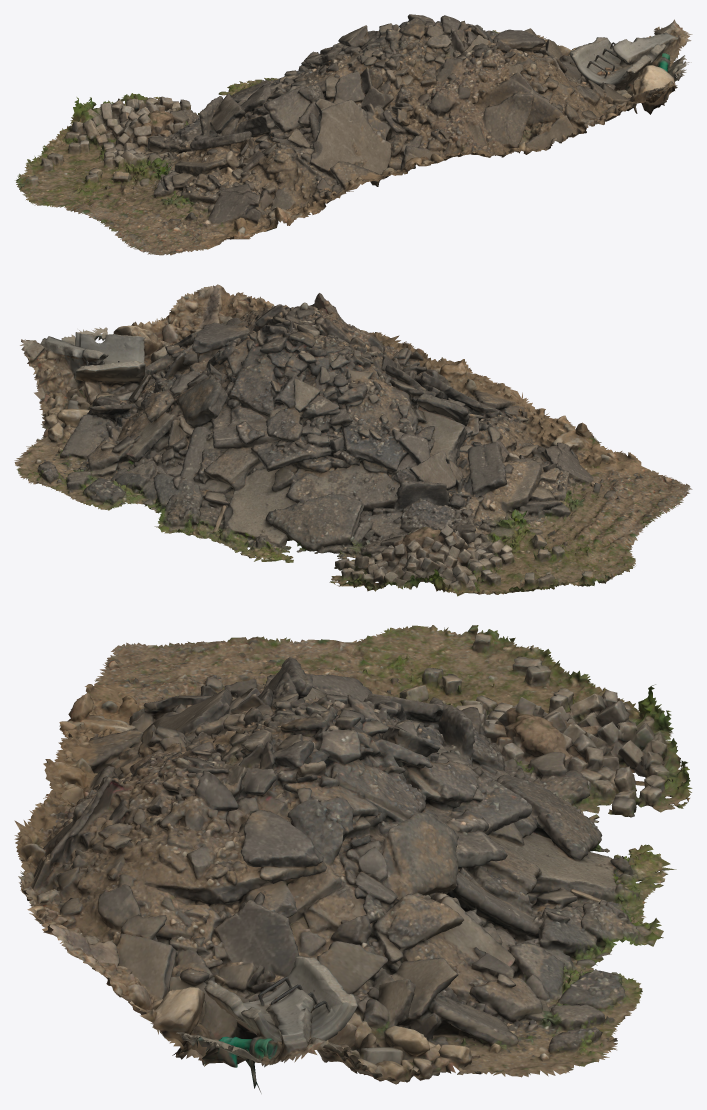
The model's file is construction_rubble.glb.
3 renders of one model, top to bottom at view 1: azimuth 30°, elevation 25°; view 2: azimuth 150°, elevation 25°; view 3: azimuth 270°, elevation 25°, orthographic. The views are drawn at different scales.
Parts seen in each view (by area): view 1: Object_2, Object_4, Object_3; view 2: Object_3, Object_2, Object_4; view 3: Object_3, Object_2, Object_4.
Part boxes in pixels (x1,y1,x2,y2): Object_2: (158,15,691,239); Object_4: (30,19,692,255); Object_3: (15,14,686,230); Object_3: (42,295,663,589); Object_2: (78,293,622,537); Object_4: (14,284,692,596); Object_3: (14,625,676,1093); Object_2: (54,657,663,1043); Object_4: (27,638,692,1084).
Size of the model in its own units: 43.13 by 8.18 by 24.45.
1 material, 1 textured.
